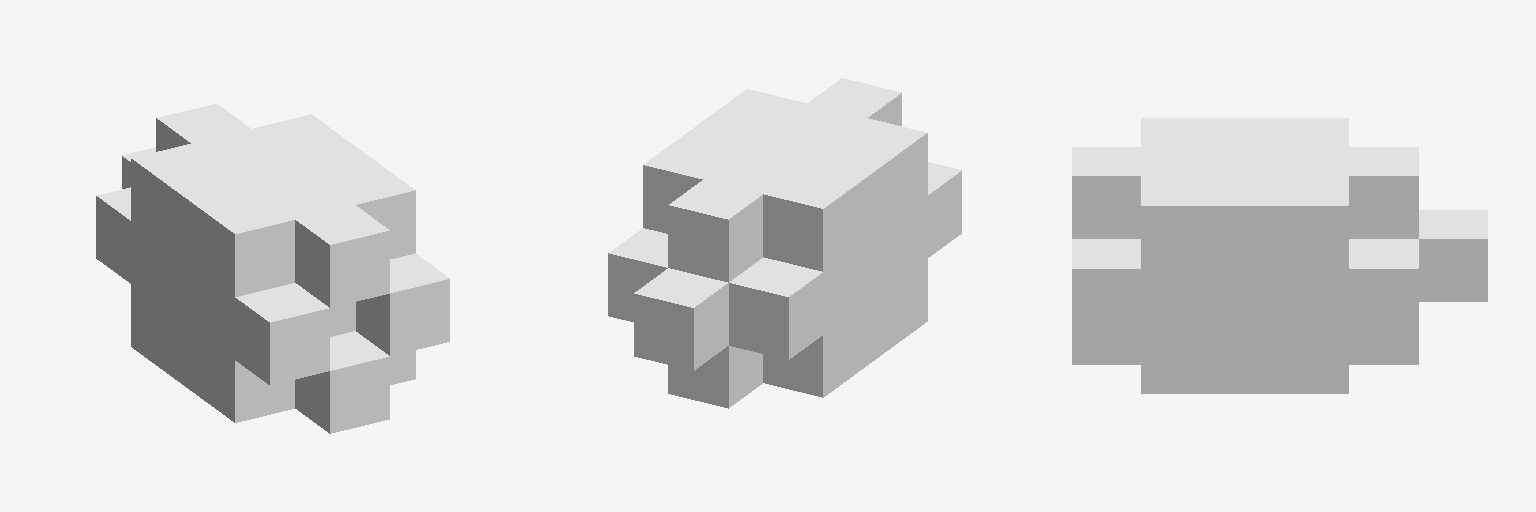
File: BaseProjectile.obj
3 renders of one model, left to right at view 1: azimuth 30°, elevation 25°; view 2: azimuth 150°, elevation 25°; view 3: azimuth 270°, elevation 25°, orthographic.
Parts seen in each view (by area): view 1: BaseProjectile; view 2: BaseProjectile; view 3: BaseProjectile.
Part boxes in pixels (x1,y1,x2,y2): BaseProjectile: (96, 103, 449, 433); BaseProjectile: (608, 78, 961, 408); BaseProjectile: (1072, 118, 1487, 393).
Size of the model in its own units: 3 by 3 by 6.